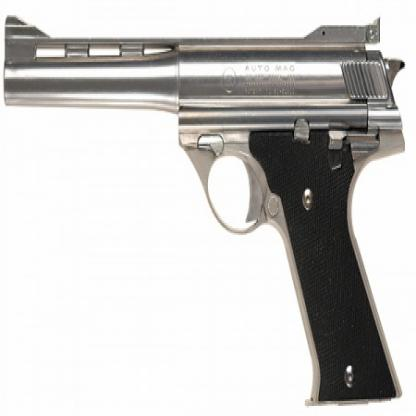Guns: (2, 10, 405, 404)
